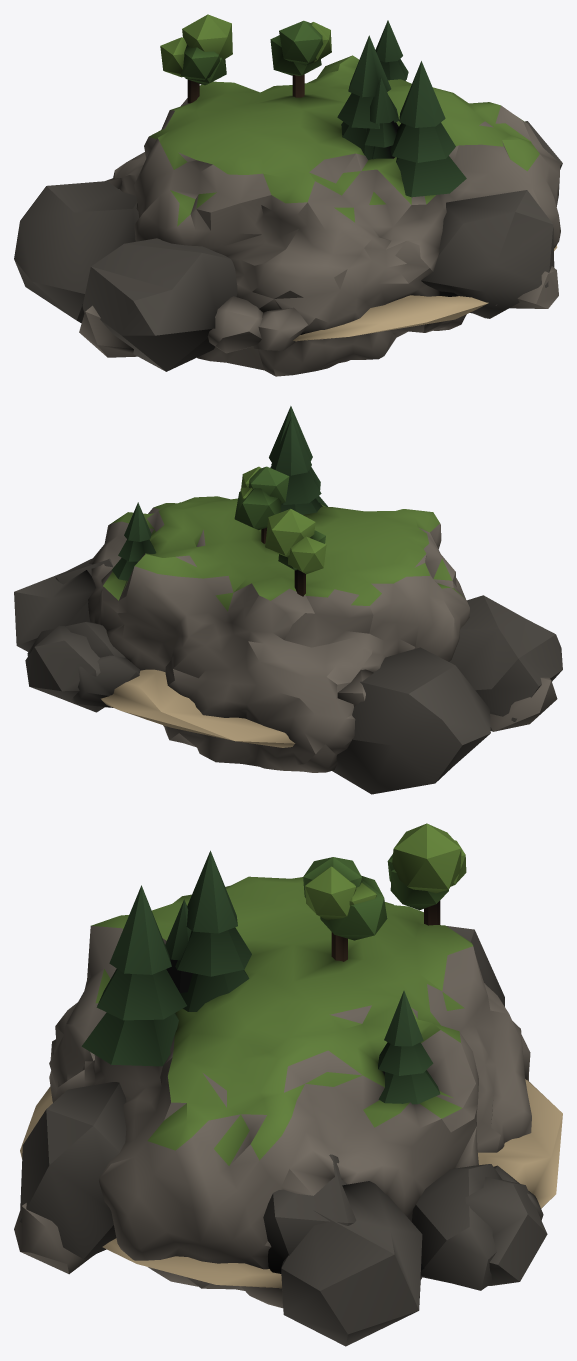
The model's file is island_rock.glb.
3 views of the same model, one above another, from view 1: azimuth 30°, elevation 25°; view 2: azimuth 150°, elevation 25°; view 3: azimuth 270°, elevation 25° (orthographic). The views are drawn at different scales.
Visible parts, largest first — view 1: island_rock; view 2: island_rock; view 3: island_rock.
Part boxes in pixels (x1=…): island_rock: x1=14, y1=14, x2=562, y2=376; island_rock: x1=14, y1=406, x2=562, y2=794; island_rock: x1=14, y1=823, x2=562, y2=1346.
Size of the model in its own units: 2.16 by 1.18 by 1.49.
